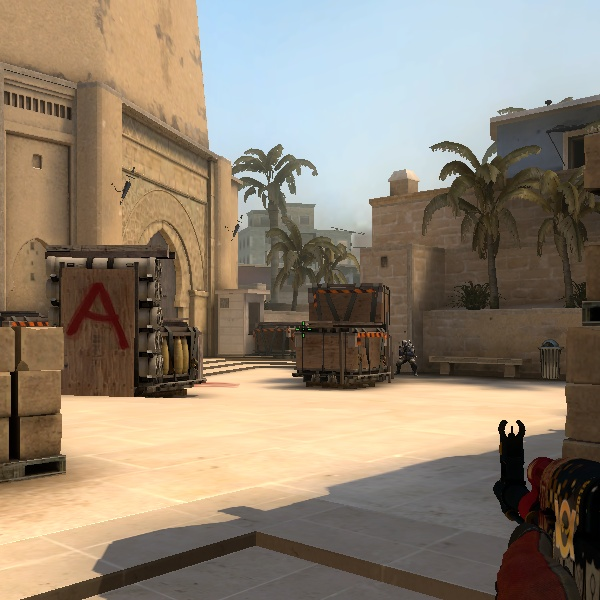ct_body: (393, 339, 420, 376)
ct_head: (399, 338, 412, 351)
